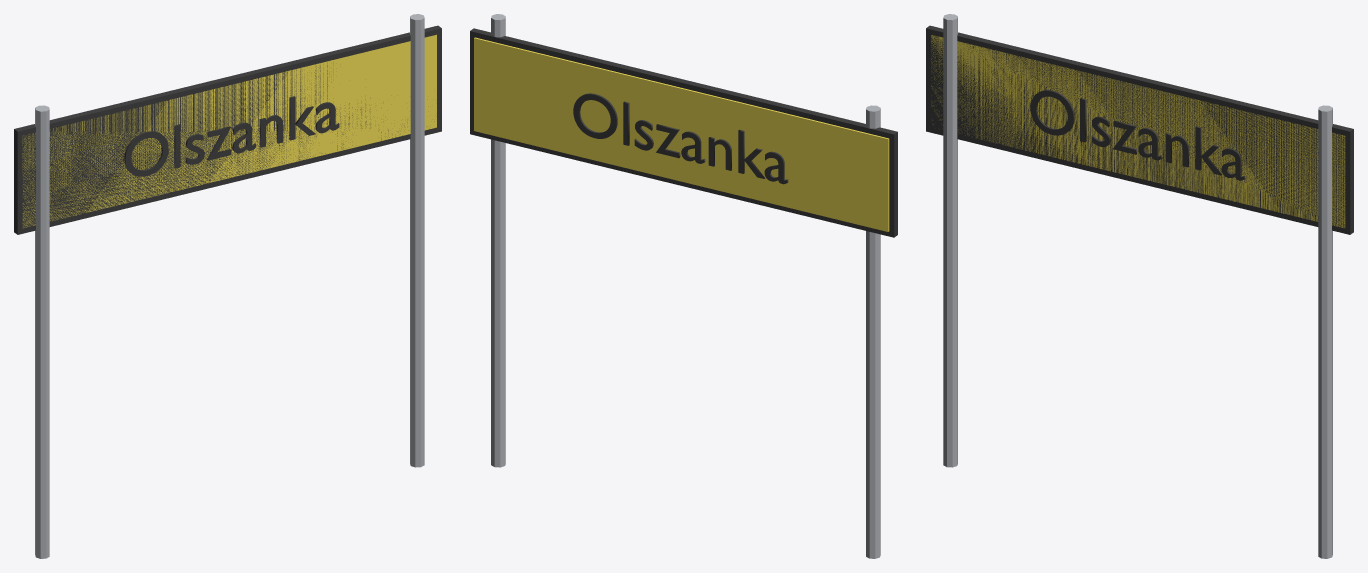
File: Tablica_Olszanka.fbx
3 views of the same model, side by side, from view 1: azimuth 30°, elevation 25°; view 2: azimuth 150°, elevation 25°; view 3: azimuth 330°, elevation 25° (orthographic).
Visible parts, largest first — view 1: Tablica_Olszanka; view 2: Tablica_Olszanka; view 3: Tablica_Olszanka.
Part boxes in pixels (left/top/right/bottom): Tablica_Olszanka: left=14, top=14, right=441, bottom=558; Tablica_Olszanka: left=470, top=14, right=897, bottom=558; Tablica_Olszanka: left=926, top=14, right=1353, bottom=558.
Size of the model in its own units: 2.58 by 2.6 by 0.108.
